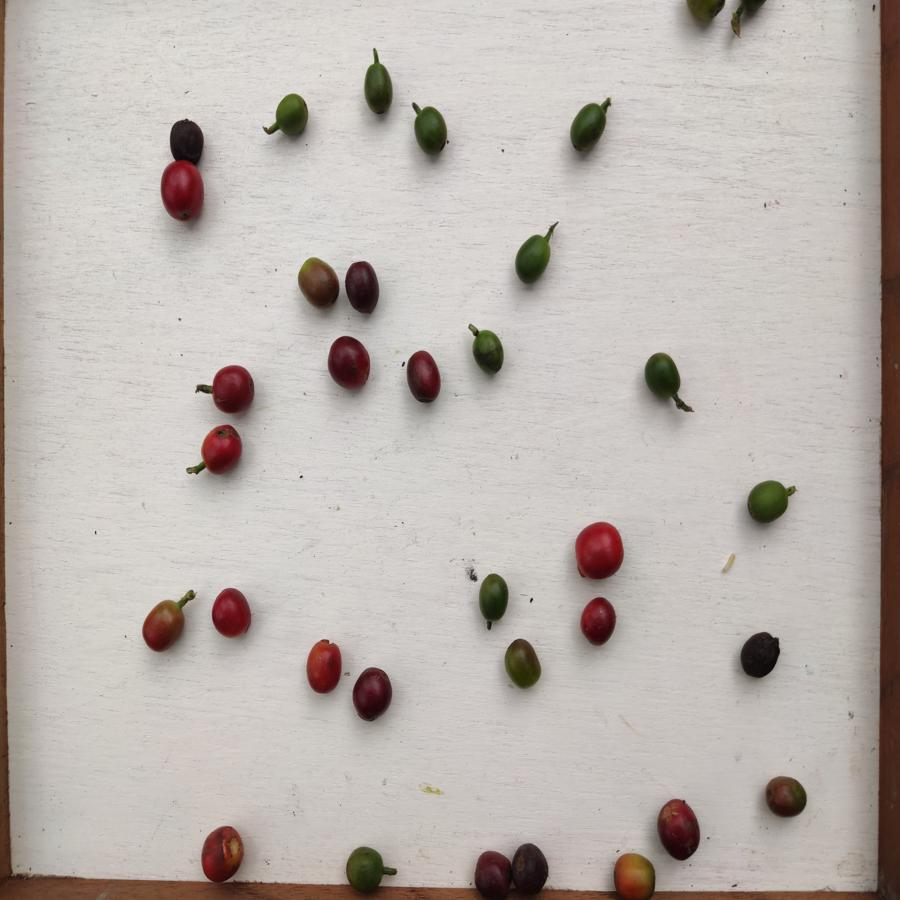Inmaduro: (513, 234, 553, 285), (411, 103, 448, 156), (747, 479, 789, 524), (569, 102, 606, 153), (643, 351, 681, 399), (274, 90, 311, 139), (362, 61, 394, 117), (347, 845, 385, 891), (470, 329, 506, 374), (478, 573, 510, 622)
Maduro: (575, 519, 625, 583), (199, 823, 245, 883), (161, 161, 203, 221), (210, 586, 254, 638), (201, 422, 243, 475), (211, 365, 256, 413), (305, 637, 341, 694), (581, 595, 617, 649)
Pinton: (141, 599, 186, 654), (503, 637, 546, 689), (298, 255, 340, 308), (613, 852, 657, 900), (764, 774, 809, 820)
Sobremaduro: (657, 798, 702, 864), (326, 336, 374, 390), (350, 665, 392, 722), (343, 259, 383, 314), (405, 350, 444, 404), (739, 629, 781, 679), (510, 842, 550, 892), (471, 851, 512, 899), (166, 117, 207, 161)
